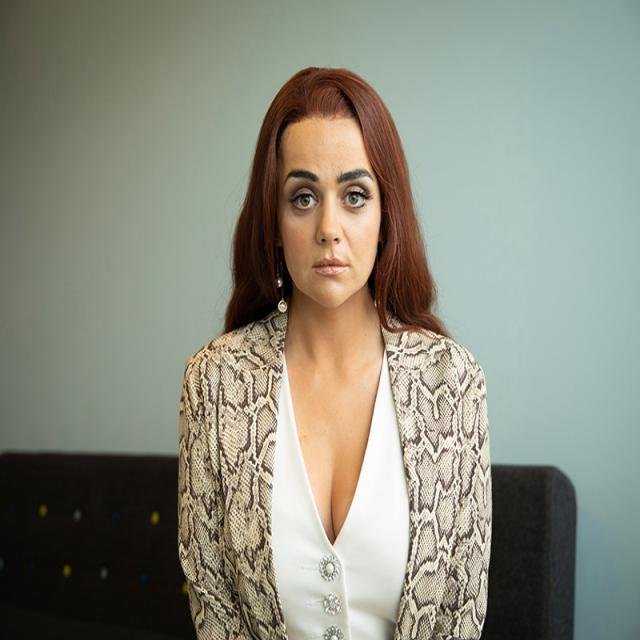adult: (177, 65, 494, 640)
